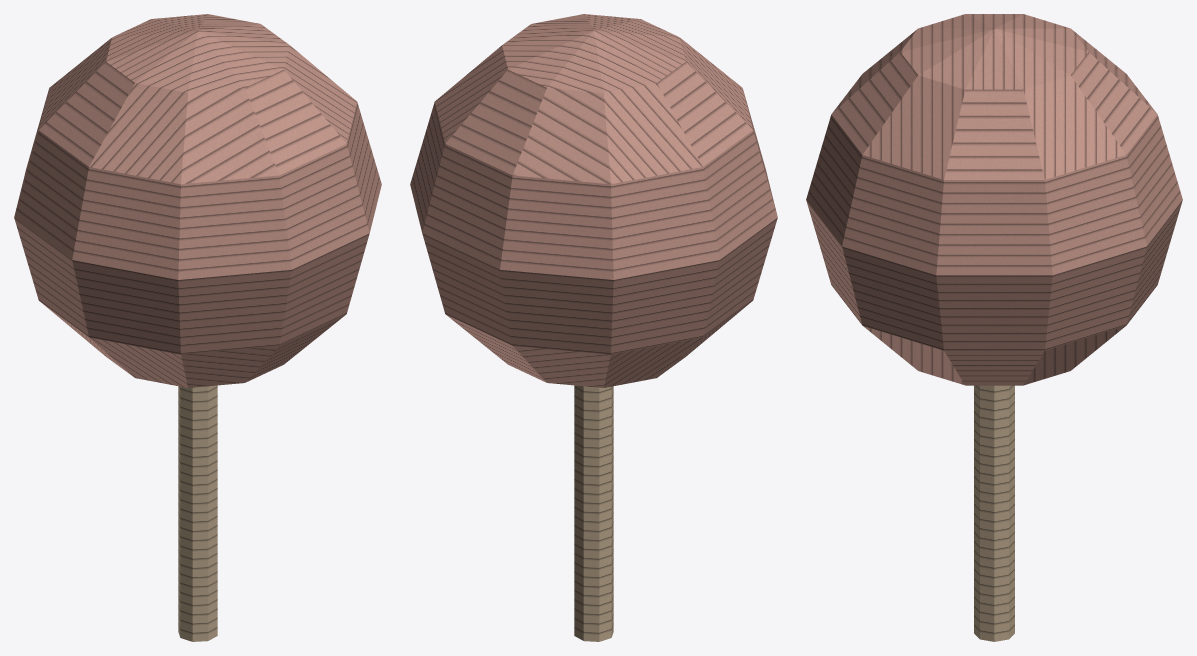
Rendered from tree_london_planetree.glb.
3 renders of one model, left to right at view 1: azimuth 30°, elevation 25°; view 2: azimuth 150°, elevation 25°; view 3: azimuth 270°, elevation 25°, orthographic.
Parts seen in each view (by area): view 1: tree_london_planetree-col; view 2: tree_london_planetree-col; view 3: tree_london_planetree-col.
Part boxes in pixels (x1,y1,x2,y2): tree_london_planetree-col: [14, 14, 381, 641]; tree_london_planetree-col: [410, 14, 777, 641]; tree_london_planetree-col: [806, 14, 1182, 641].
Size of the model in its own units: 4.37 by 8.14 by 4.6.
Materials: 2 (2 with a texture image).
